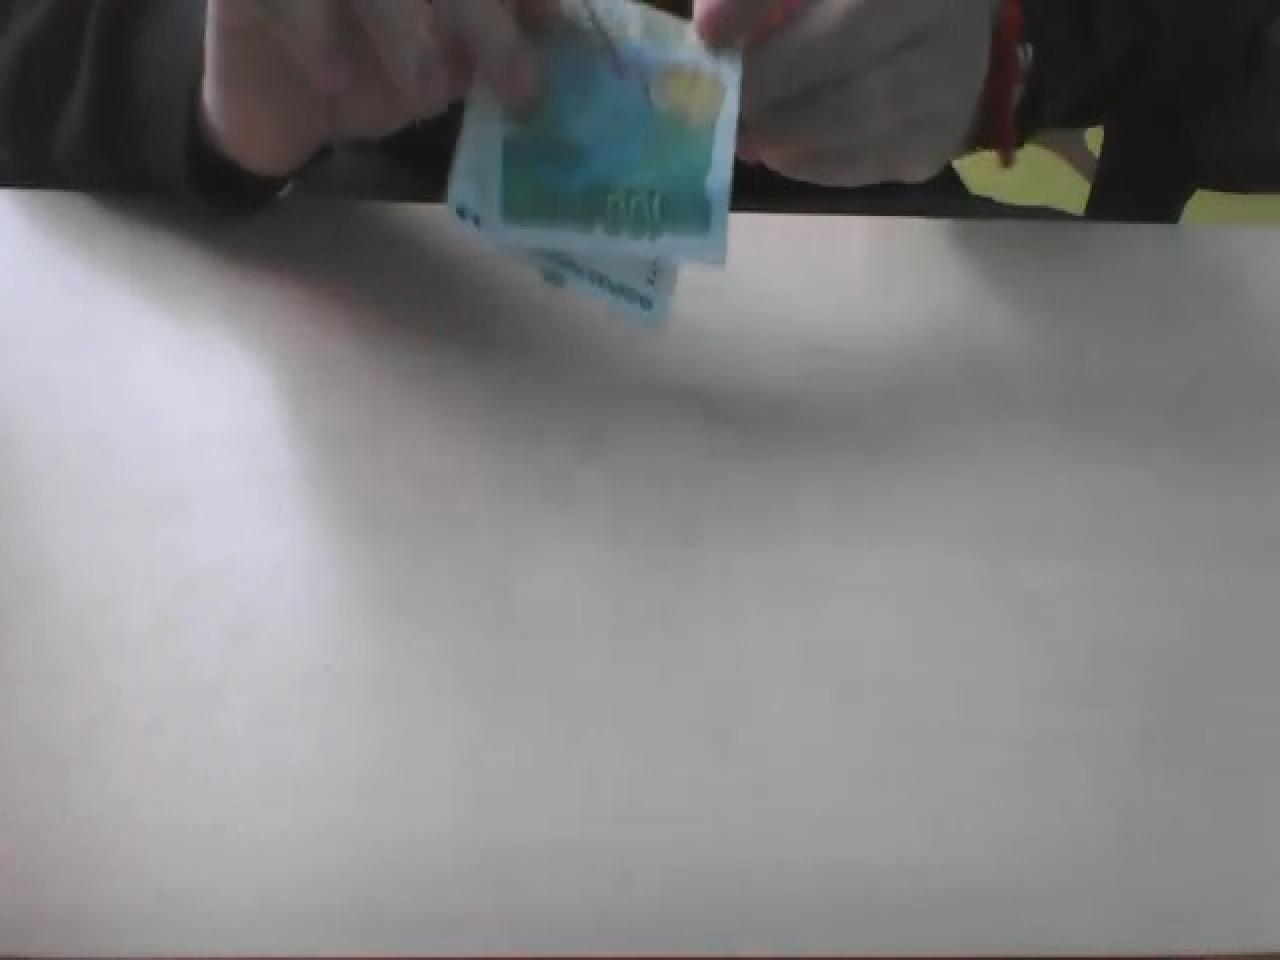100leva: (442, 0, 742, 328)
